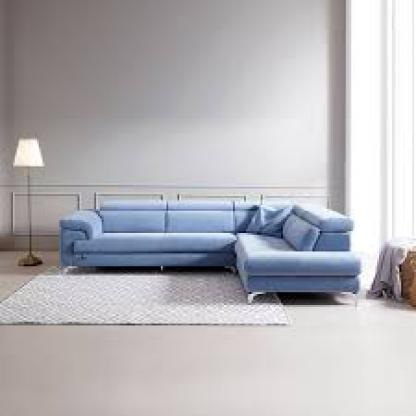sofa: (55, 200, 368, 301)
